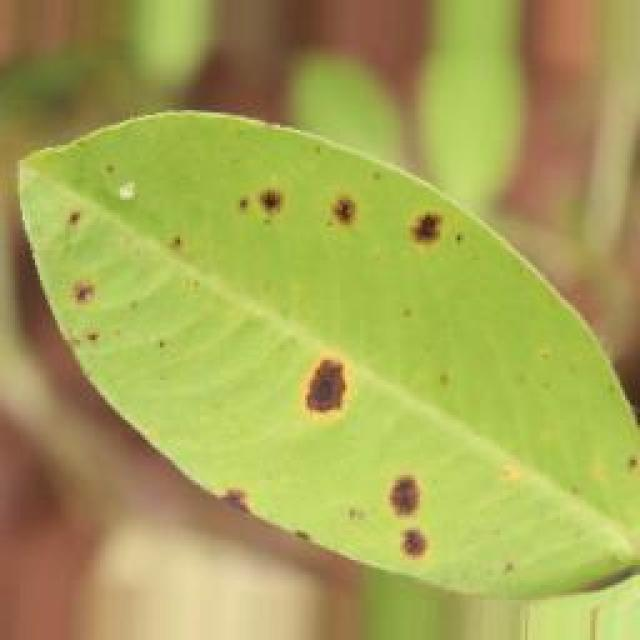Yellowish: (1, 99, 585, 600)
